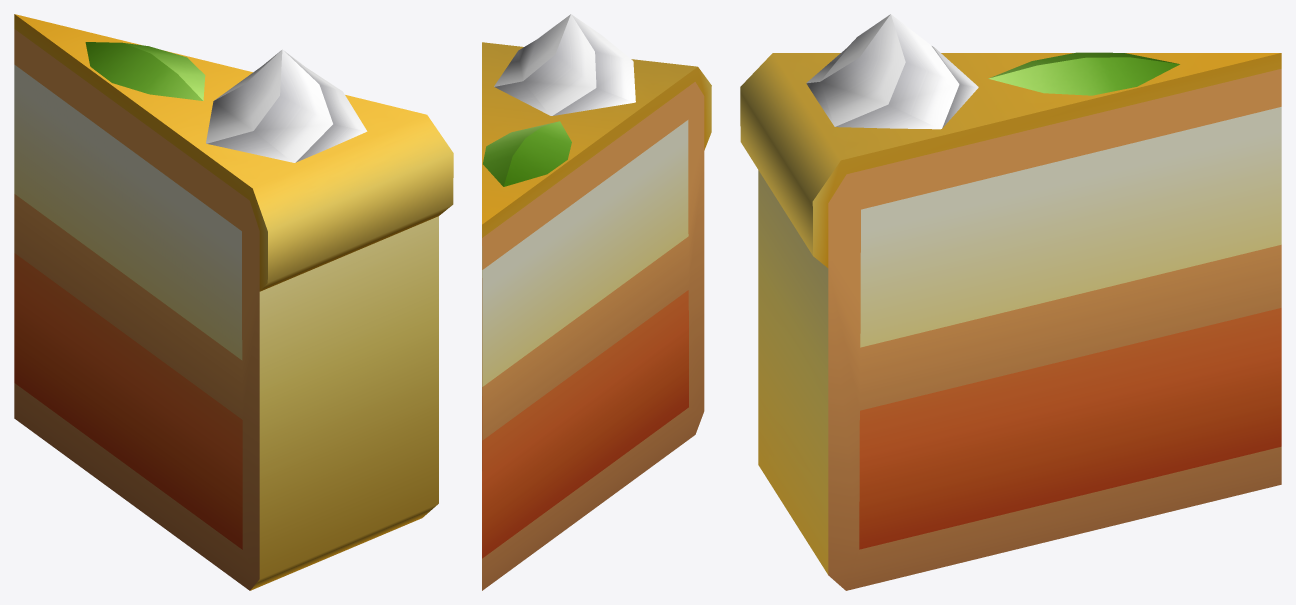
The model's file is m_LemonCake01_Slice01.fbx.
The picture shows the model from 3 angles, left to right: view 1: azimuth 30°, elevation 25°; view 2: azimuth 150°, elevation 25°; view 3: azimuth 270°, elevation 25°; orthographic projection. The views are drawn at different scales.
Visible parts, largest first — view 1: m_LemonCake01_Slice01; view 2: m_LemonCake01_Slice01; view 3: m_LemonCake01_Slice01.
Boxes of the visible parts, x1=… form: m_LemonCake01_Slice01: x1=14, y1=14, x2=453, y2=590; m_LemonCake01_Slice01: x1=482, y1=14, x2=711, y2=590; m_LemonCake01_Slice01: x1=740, y1=14, x2=1281, y2=590.
Size of the model in its own units: 6.52 by 13.68 by 13.04.
